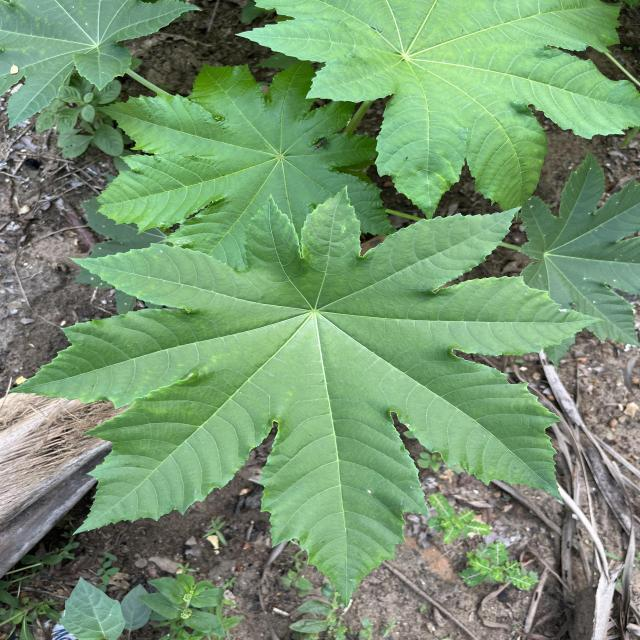Ricinus communis linn: (4, 181, 609, 612), (92, 55, 400, 271)
